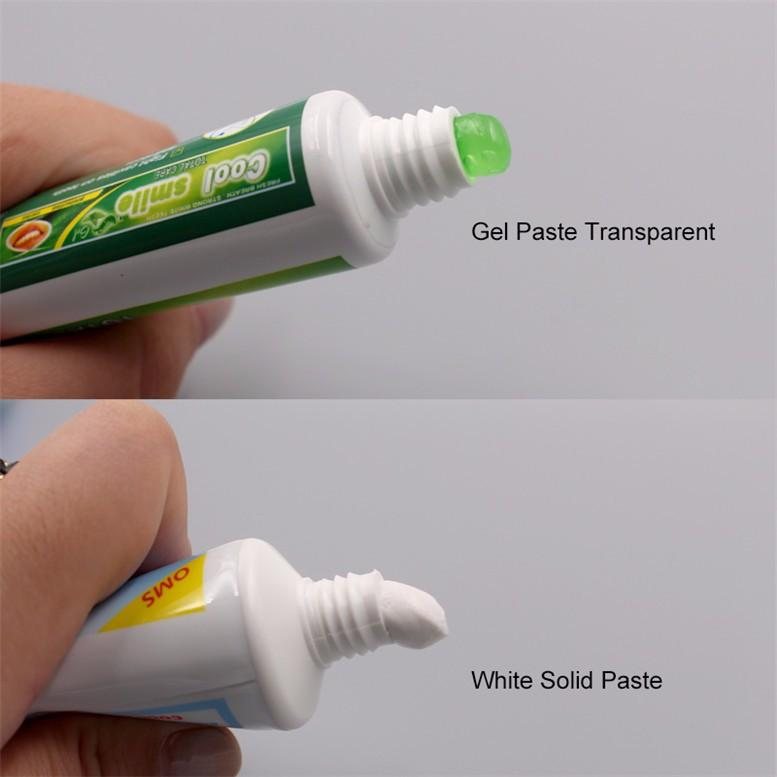toothpaste: (0, 60, 526, 347), (31, 523, 465, 745)
